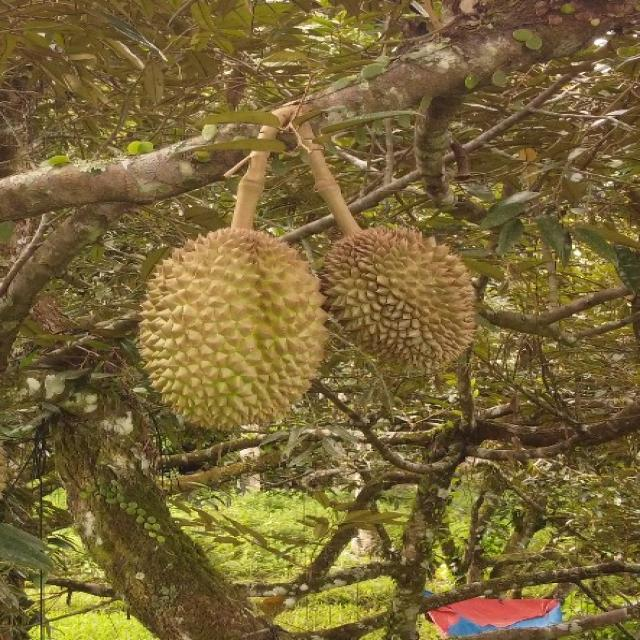mature: (138, 229, 328, 428), (315, 222, 478, 372)
